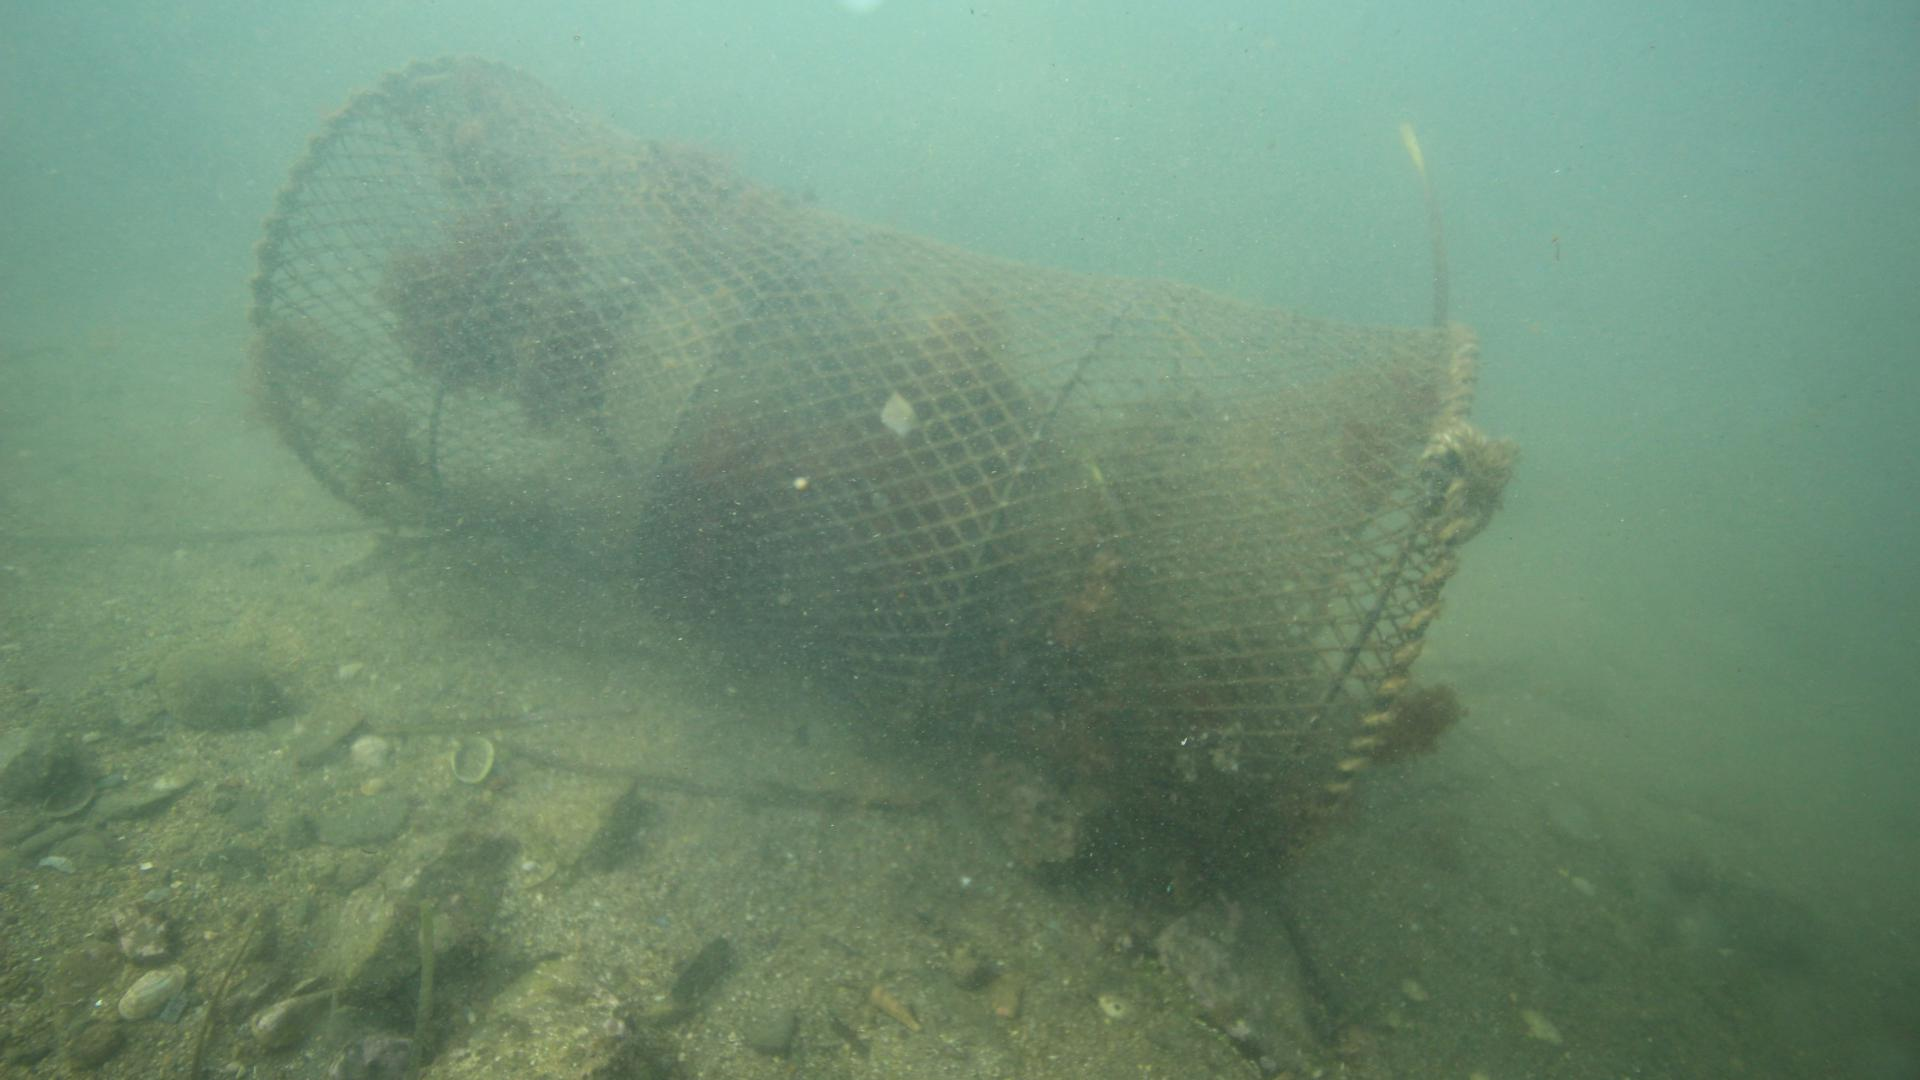spring fish trap: (247, 50, 1478, 870)
